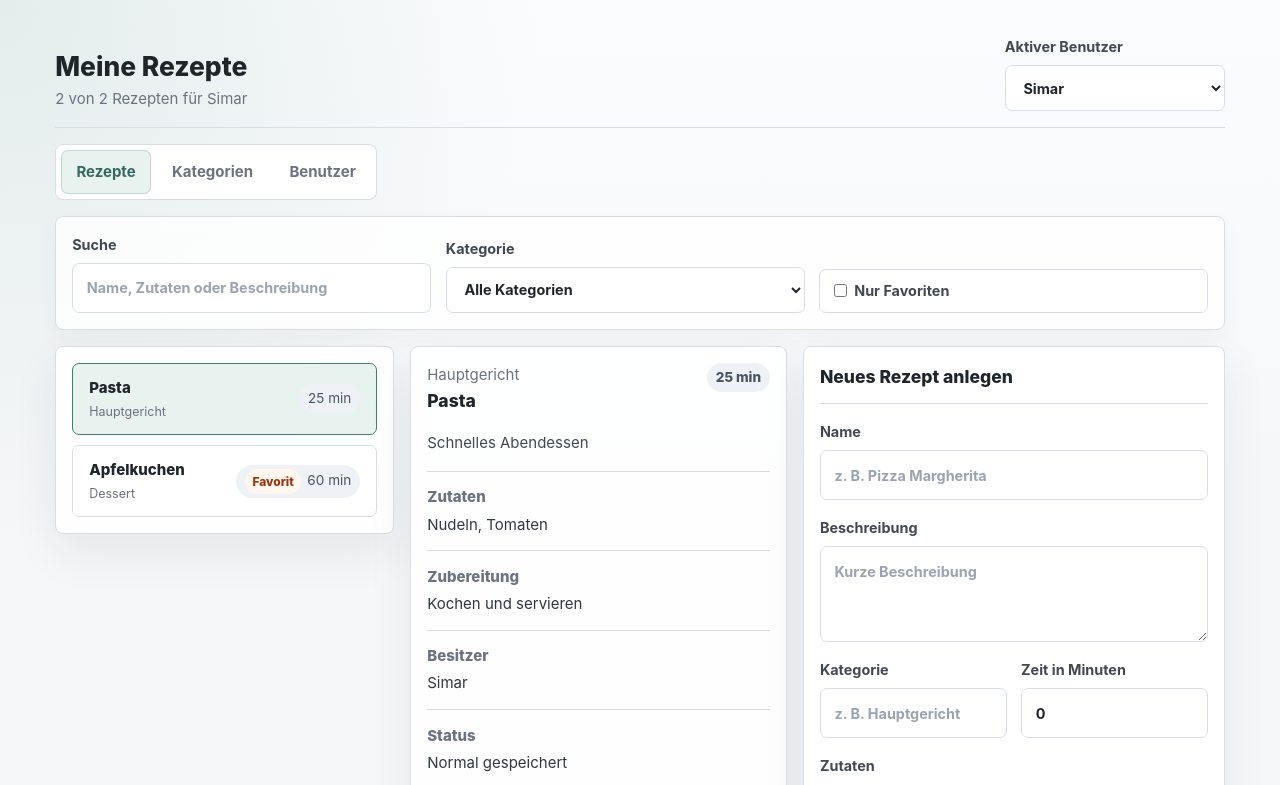
Scenario: RecipeList › filters recipes by favorites
This screenshot has width=1280, height=785.
Click the checkbox labelled "Nur Favoriten" at (840, 291), box [834,284,847,297]
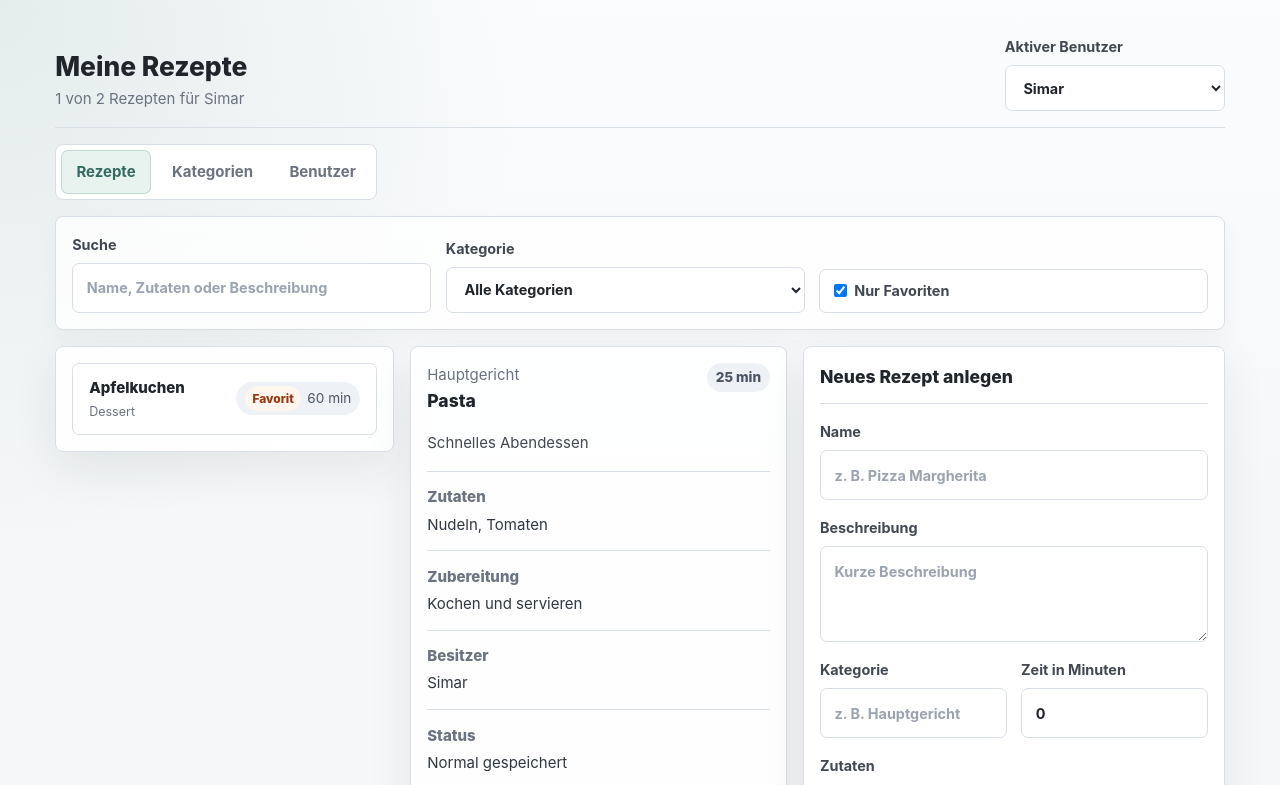
Check: the element with class "recipe-list" shows "Apfelkuchen", box [72,363,377,435]
Check: the element with class "recipe-list" no longer shows "Pasta"
